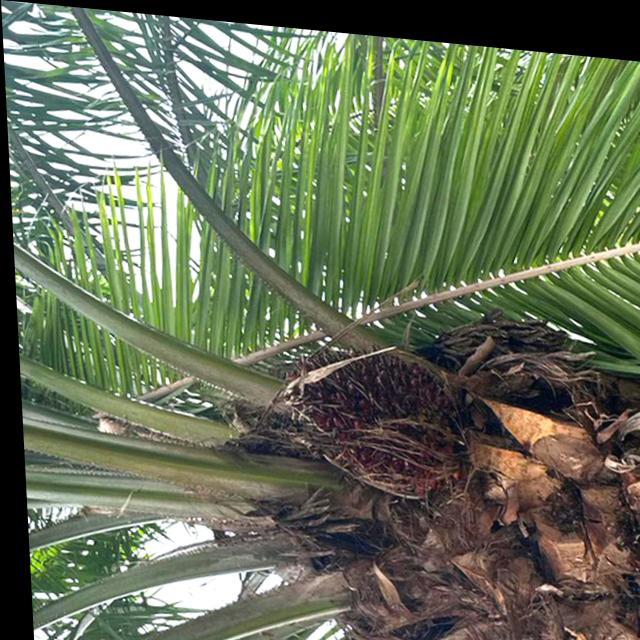ripe: (270, 331, 470, 499)
